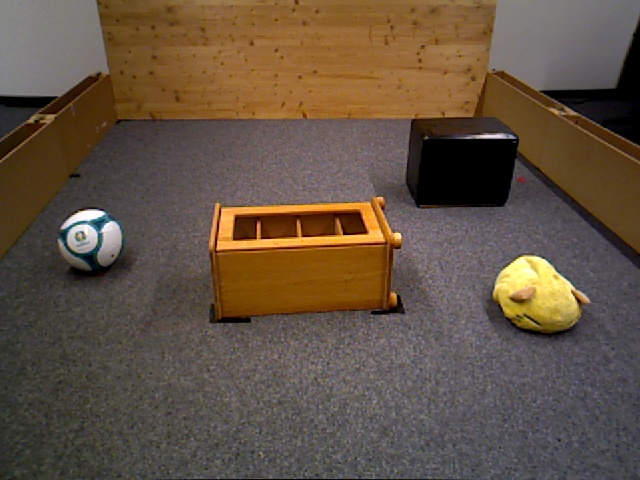grasp: (493, 253, 584, 333)
kick: (58, 208, 123, 273)
push: (410, 119, 519, 208)
